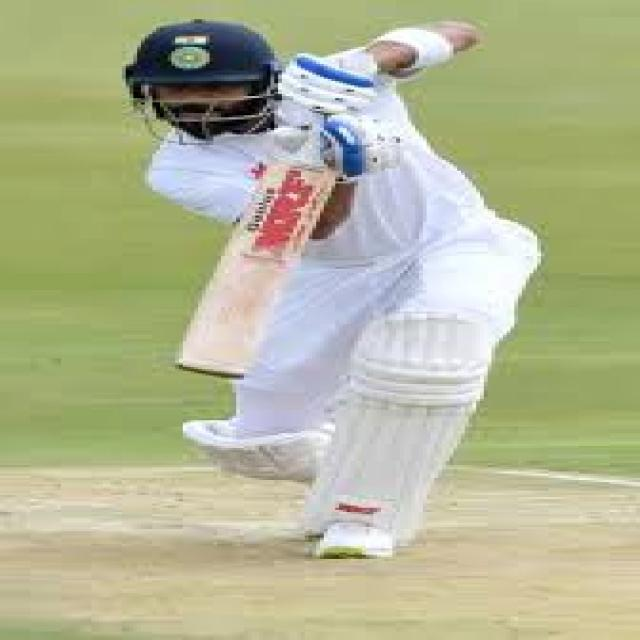bat: (169, 148, 320, 385)
toe: (174, 356, 249, 381)
